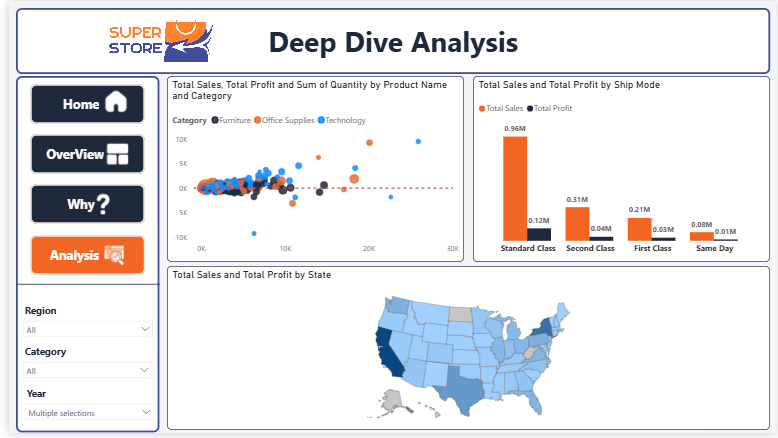

Layout of this report page (visuals, bound fields, positions):
{"tool":"powerbi","page":{"name":"Analysis","canvas":[1280,720],"ordinal":3},"visuals":[{"type":"actionButton","box":[11.4,11.4,1257.1,110],"z":0},{"type":"image","box":[156.7,13.3,190,107.1],"z":1000},{"type":"actionButton","box":[12.1,125.8,239.4,593.9],"z":2000},{"type":"actionButton","box":[34.8,137.9,191.7,66.7],"z":3000},{"type":"actionButton","box":[34.8,305.6,191.7,66.7],"z":4000},{"type":"actionButton","box":[34.8,221.7,191.7,66.7],"z":5000},{"type":"actionButton","box":[153,133.3,50,68.2],"z":6000},{"type":"actionButton","box":[159.1,222.7,45.5,63.6],"z":7000},{"type":"actionButton","box":[134.8,306.1,43.9,63.6],"z":8000},{"type":"actionButton","box":[34.8,389.4,192.4,66.7],"z":9000},{"type":"actionButton","box":[153,400,43.9,47],"z":10000},{"type":"slicer","fields":{"Values":["Orders.Region"]},"box":[13.6,500,236.4,68.2],"z":11000},{"type":"shape","box":[13.6,462.1,237.9,21.2],"z":12000},{"type":"slicer","fields":{"Values":["Orders.Category"]},"box":[13.6,568.2,234.8,69.7],"z":13000},{"type":"slicer","fields":{"Values":["Calendar.Year"]},"box":[16.7,637.9,234.8,68.2],"z":14000},{"type":"scatterChart","fields":{"Category":["Orders.Product Name"],"Series":["Orders.Category"],"Size":["Sum(Orders.Quantity)"],"X":["Measures_.Total Sales"],"Y":["Measures_.Total Profit"]},"box":[263.3,125,495,310],"z":15000},{"type":"clusteredColumnChart","fields":{"Category":["Orders.Ship Mode"],"Y":["Measures_.Total Sales","Measures_.Total Profit"]},"box":[773.3,125,495,310],"z":16000},{"type":"shapeMap","fields":{"Category":["Orders.State"],"Value":["Measures_.Total Sales"]},"box":[263.3,441.7,1005,273.3],"z":17000}]}

Visuals, with their boxes in screenshot pixels (x1, y1, x2, y2), scaled from the page's 1280x720 canvas onto the 778x438 screenshot:
actionButton: [7,7,771,74]
image: [95,8,211,73]
actionButton: [7,77,153,437]
actionButton: [21,84,138,124]
actionButton: [21,186,138,226]
actionButton: [21,135,138,175]
actionButton: [93,81,123,123]
actionButton: [97,135,124,174]
actionButton: [82,186,109,225]
actionButton: [21,237,138,277]
actionButton: [93,243,120,272]
slicer - Orders.Region: [8,304,152,346]
shape: [8,281,153,294]
slicer - Orders.Category: [8,346,151,388]
slicer - Calendar.Year: [10,388,153,430]
scatterChart - Orders.Product Name x Orders.Category: [160,76,461,265]
clusteredColumnChart - Orders.Ship Mode x Measures_.Total Sales: [470,76,771,265]
shapeMap - Orders.State x Measures_.Total Sales: [160,269,771,435]
